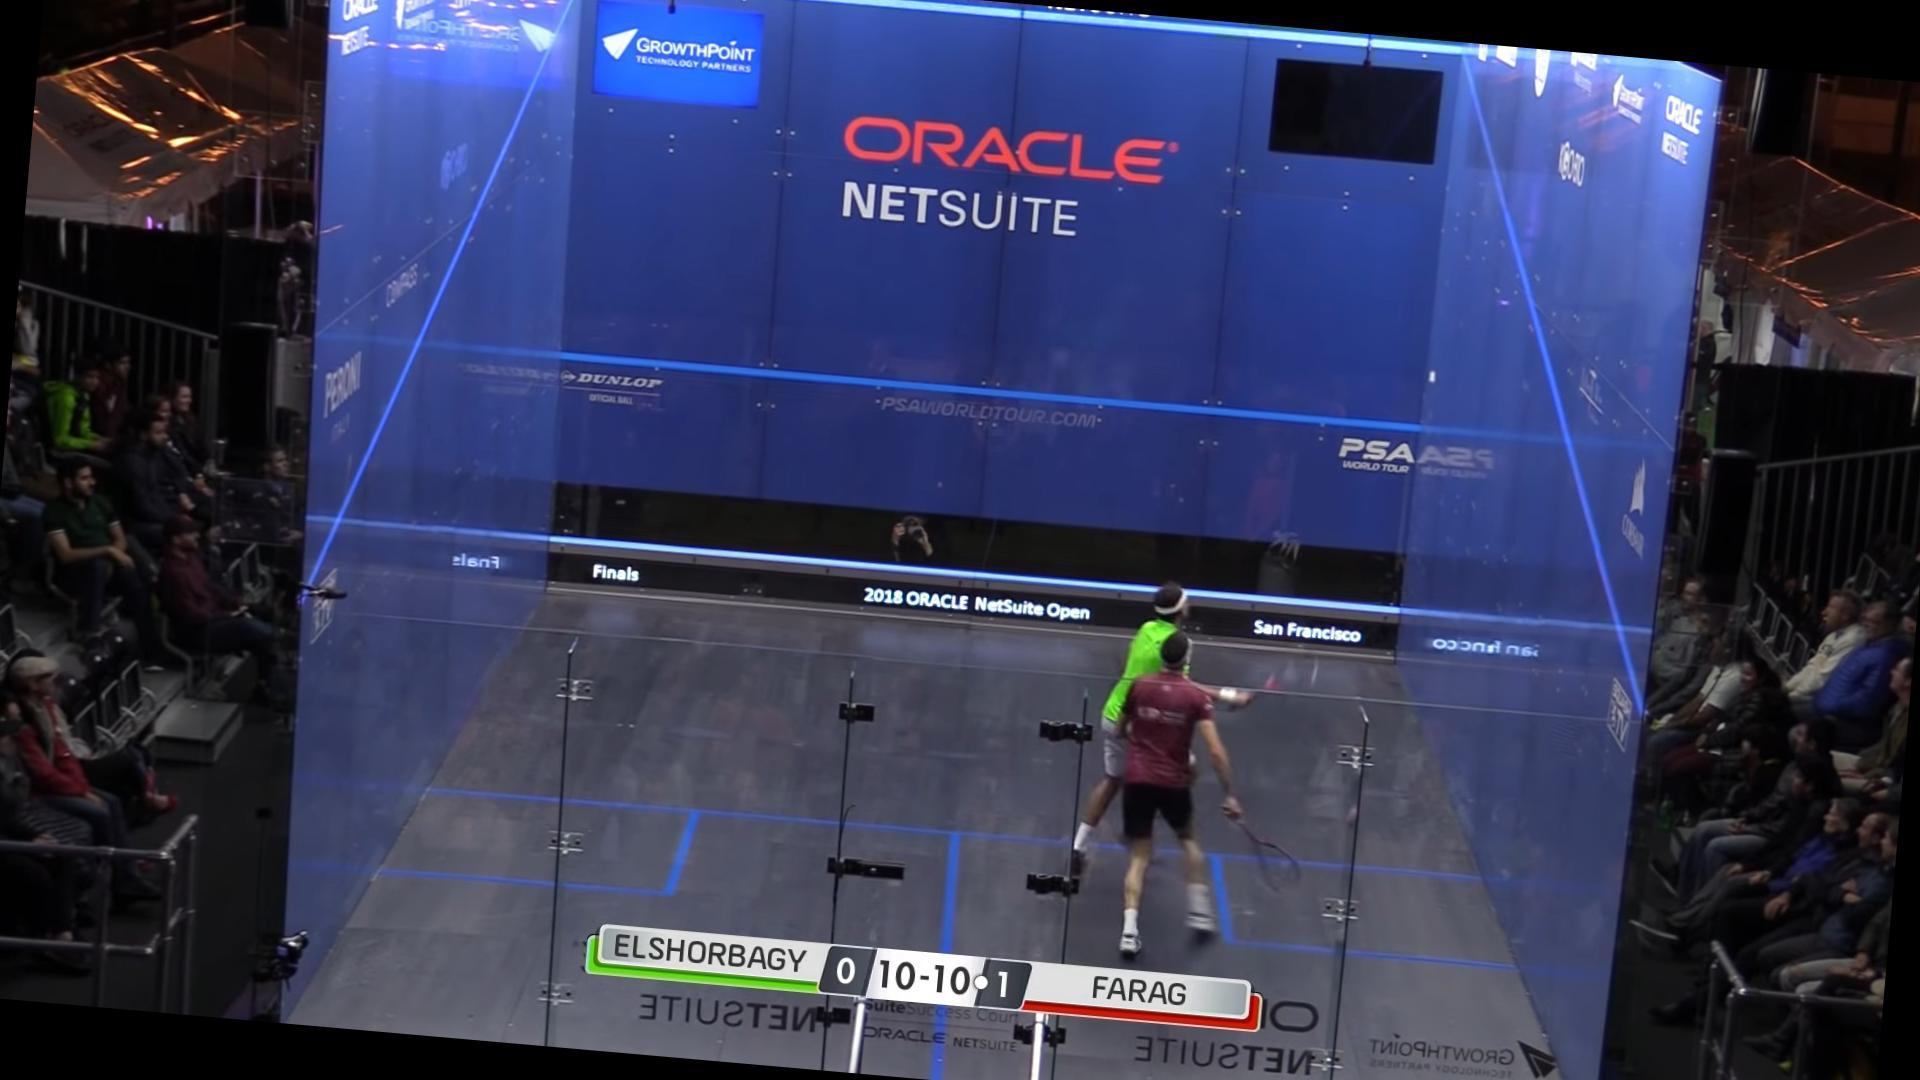Squash-Ball: (1422, 361, 1447, 389)
